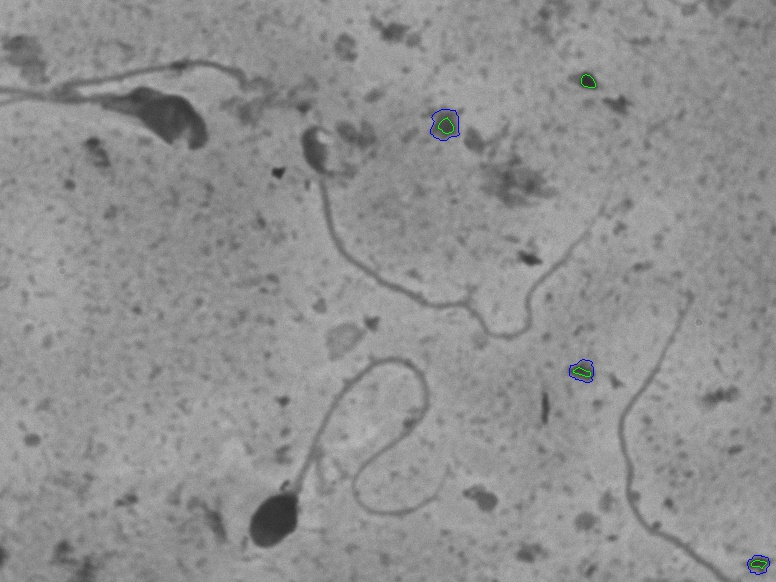Abnormal: (280, 108, 612, 345), (14, 21, 261, 186)
Normal: (180, 327, 476, 558)
